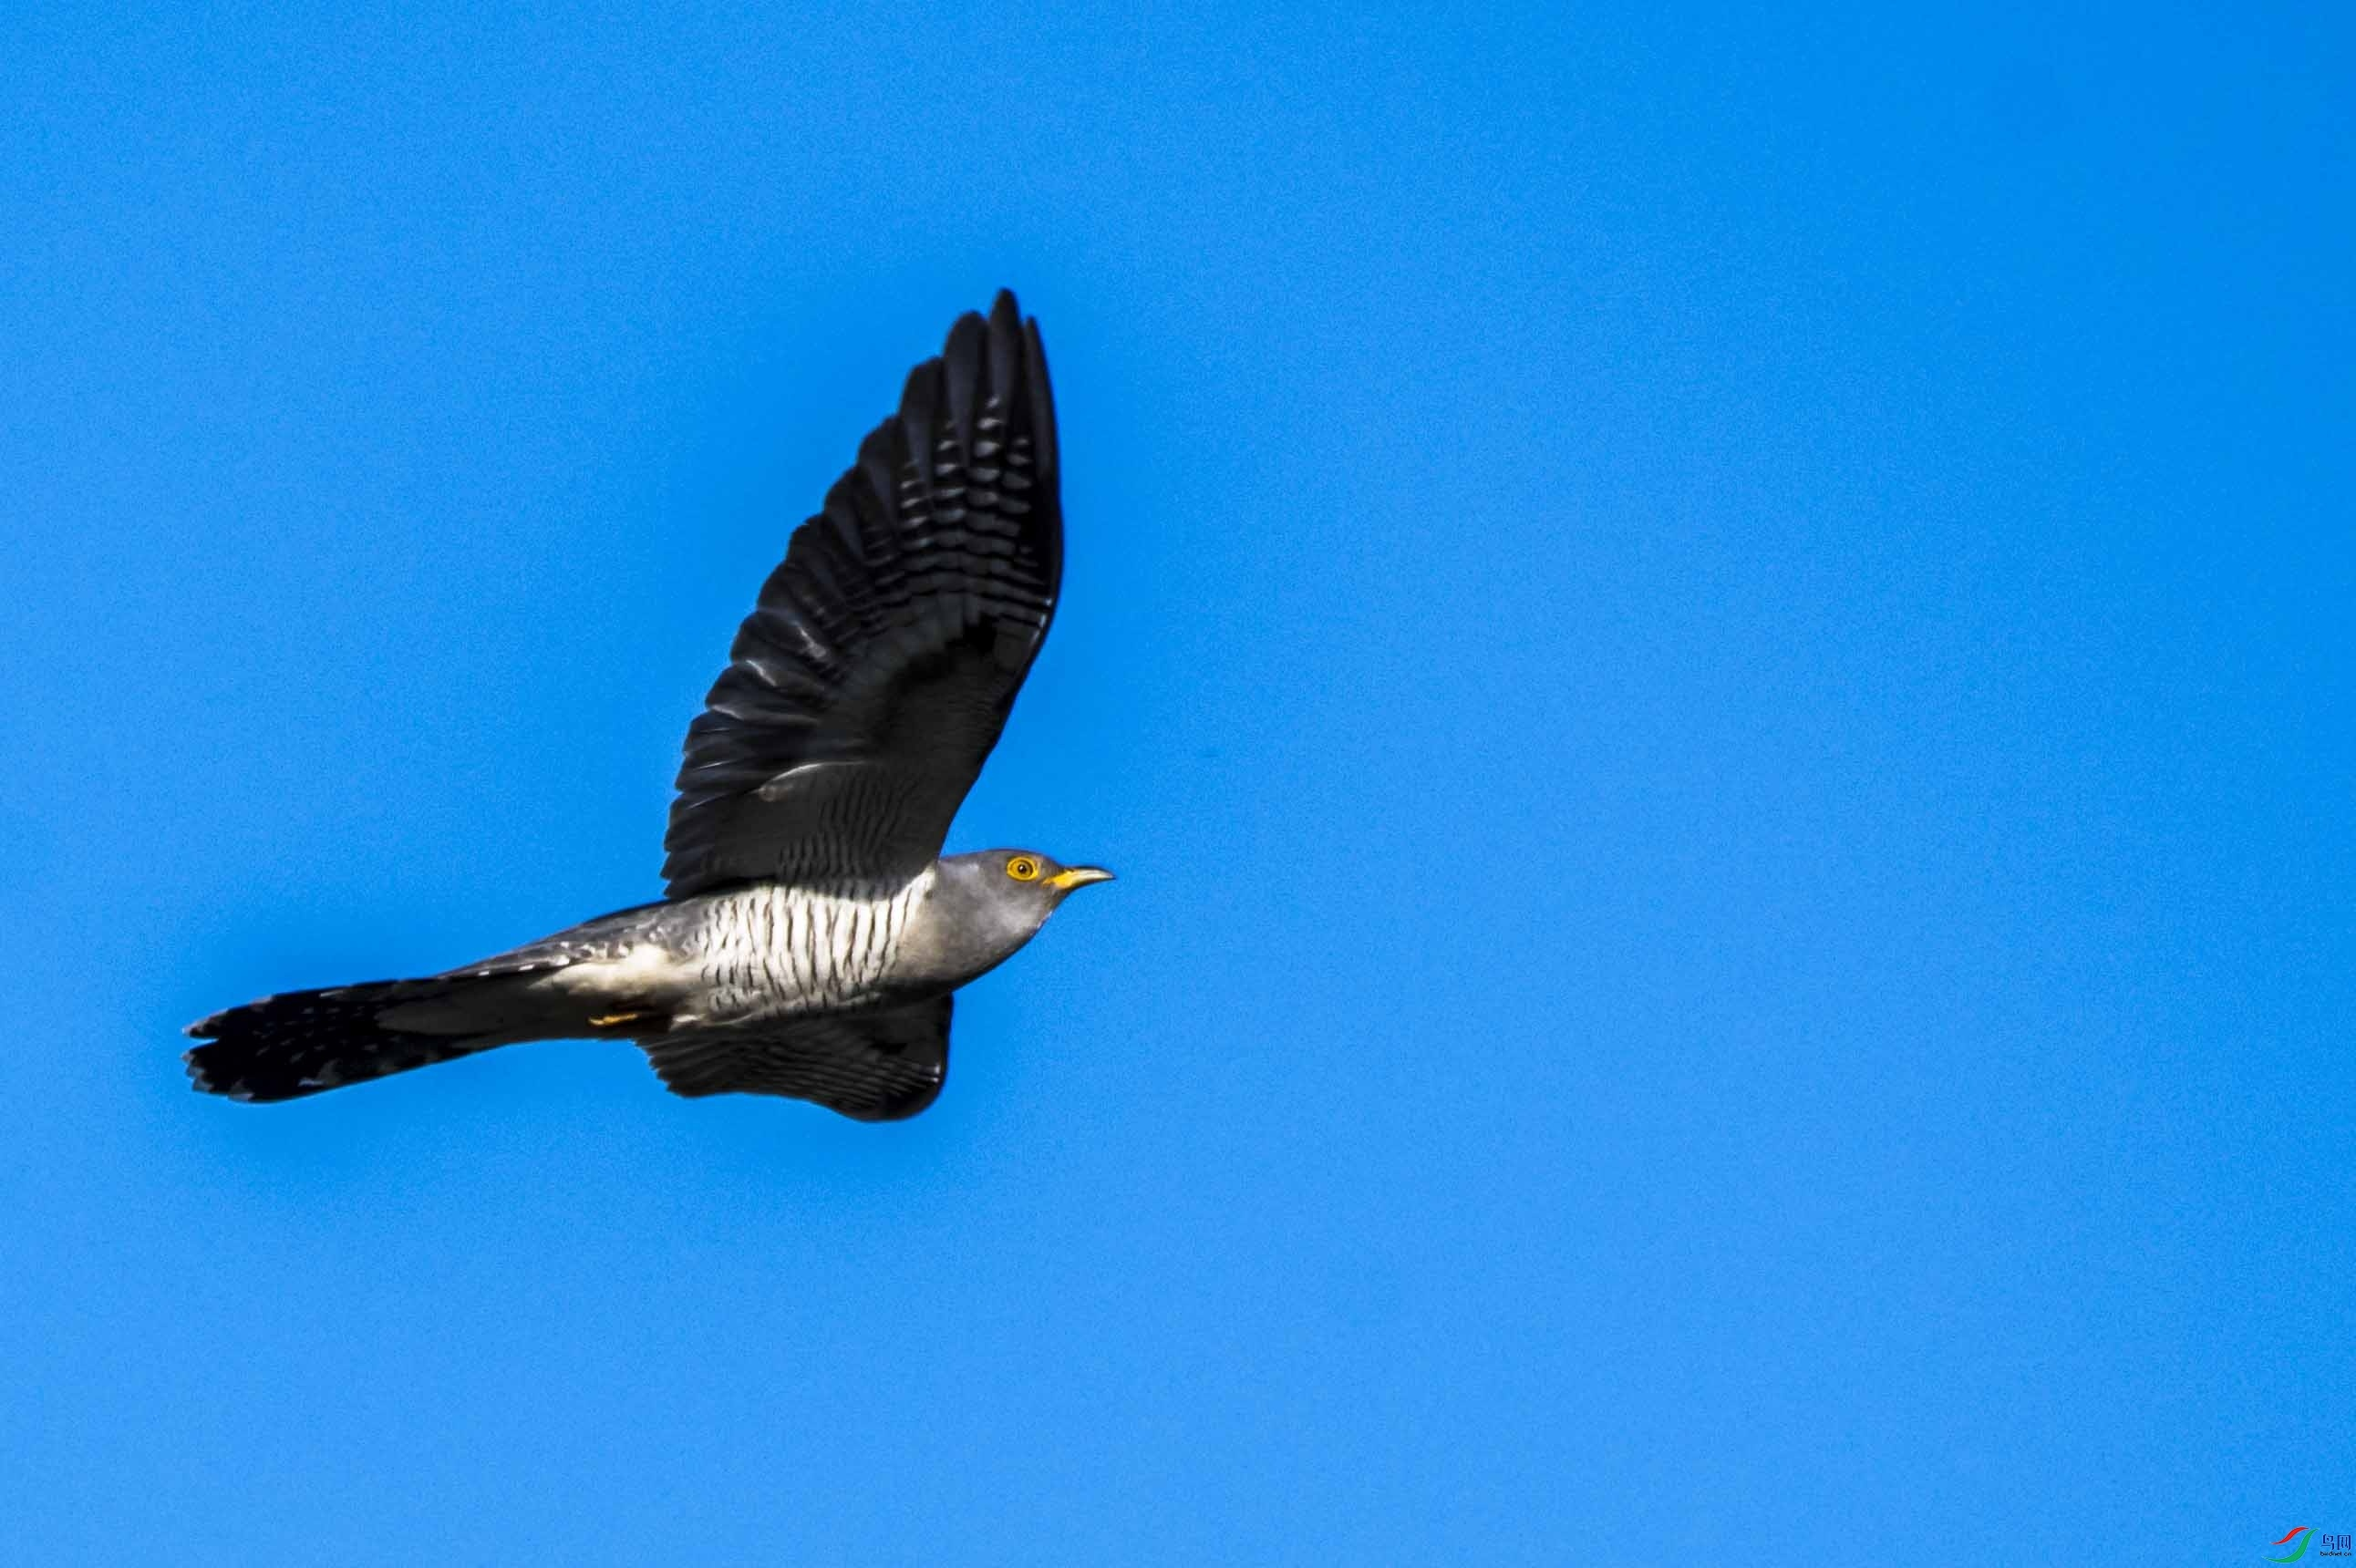bird: (172, 287, 1103, 1136)
